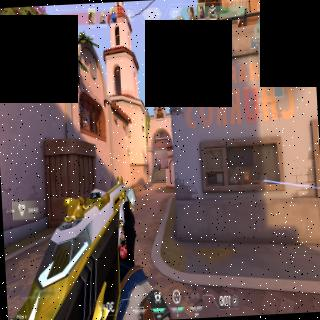ENEMY-BODY: (154, 154, 158, 165)
ENEMY-HEAD: (156, 155, 156, 157)
